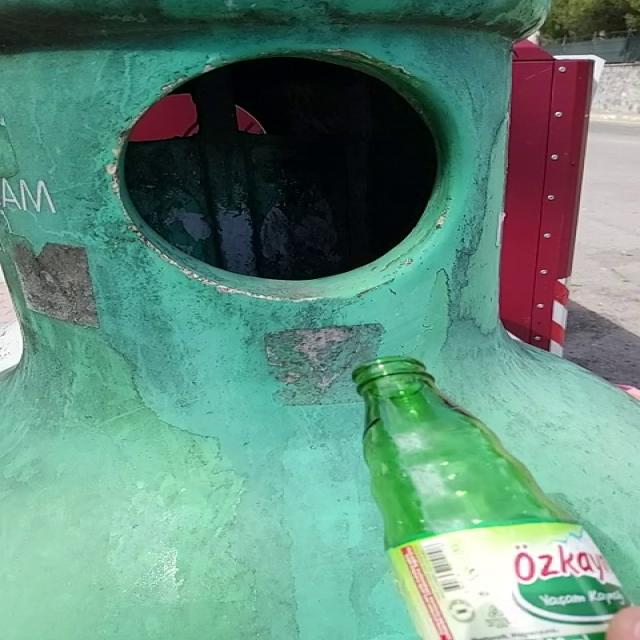glass: (353, 357, 629, 640)
